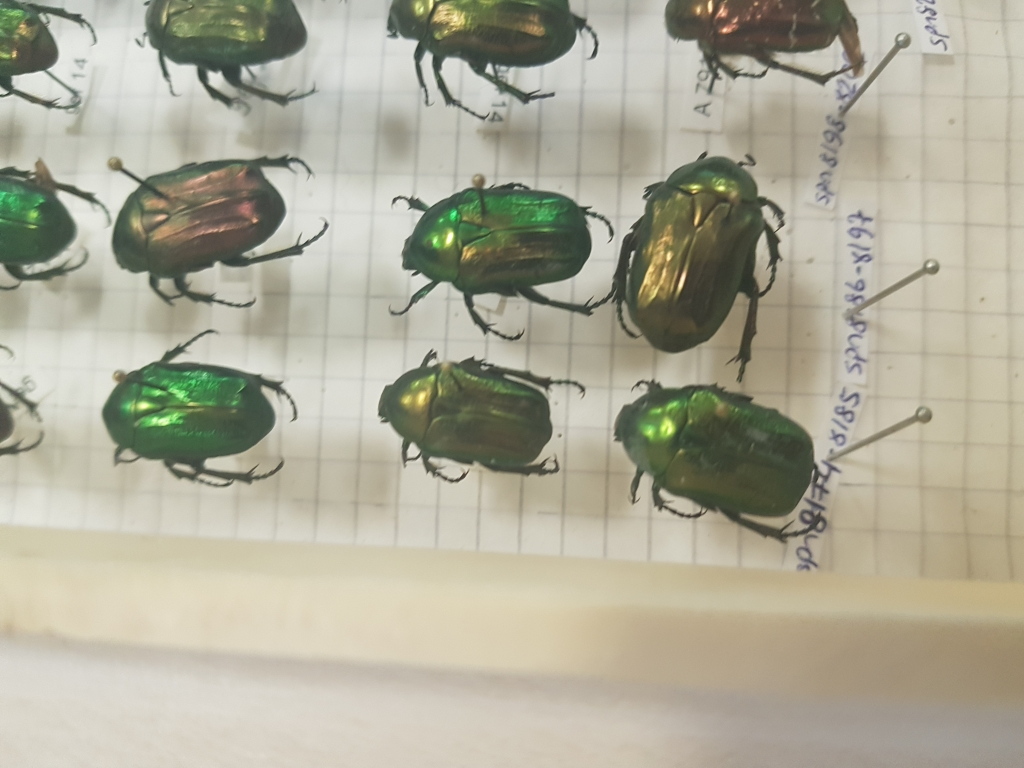Cetonia_aurata: (614, 128, 789, 384)
